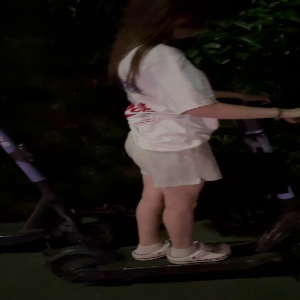human on a scooter: (32, 1, 300, 287)
